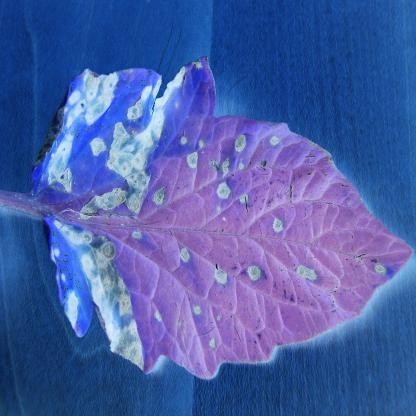Tomato Septoria leaf spot: (27, 48, 414, 398)
